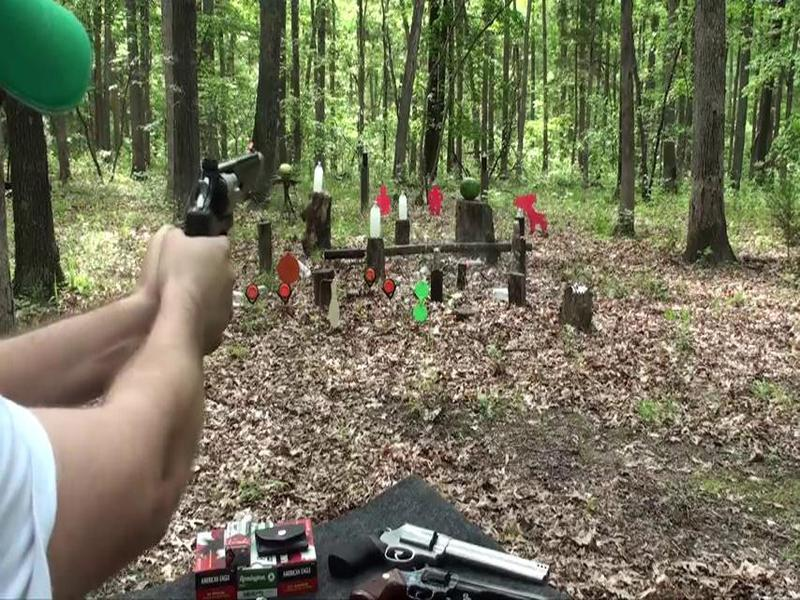Revolver: (176, 132, 278, 261)
